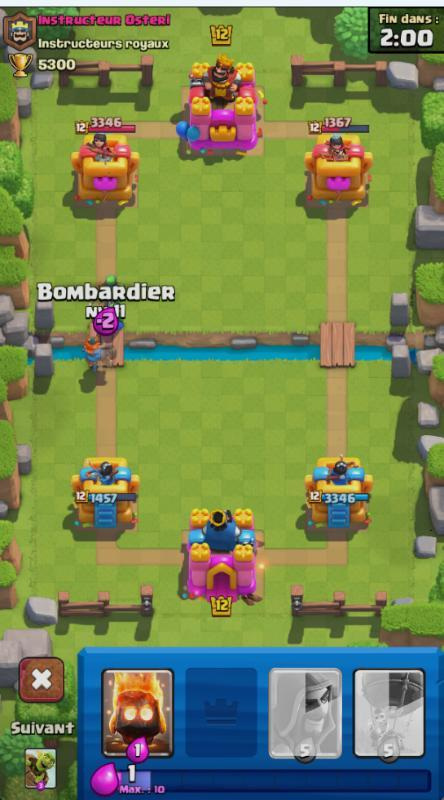player_valkyrie: (77, 330, 114, 368)
